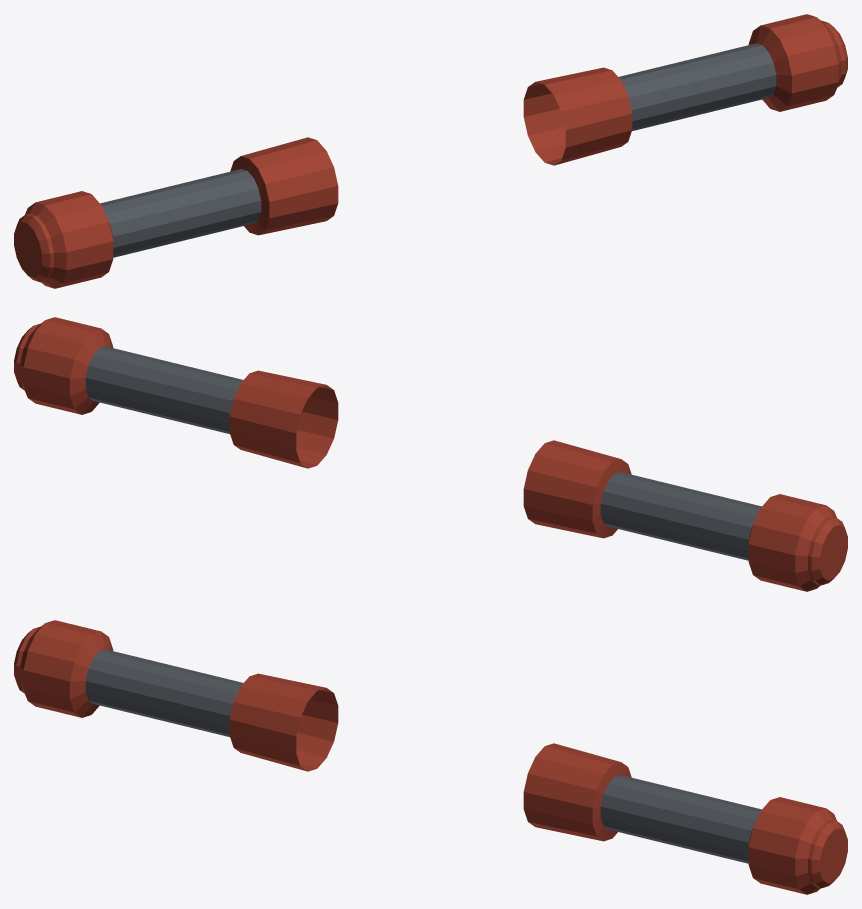
The model's file is Personal_Vehicle_03_Footrest_Red.fbx.
The picture shows the model from 3 angles, top to bottom: view 1: azimuth 30°, elevation 25°; view 2: azimuth 150°, elevation 25°; view 3: azimuth 330°, elevation 25°; orthographic projection.
Visible parts, largest first — view 1: Personal_Vehicle_03_Footrest_Red; view 2: Personal_Vehicle_03_Footrest_Red; view 3: Personal_Vehicle_03_Footrest_Red.
Boxes of the visible parts, x1,y1,x2,y2 form: Personal_Vehicle_03_Footrest_Red: [14, 14, 847, 288]; Personal_Vehicle_03_Footrest_Red: [14, 317, 847, 591]; Personal_Vehicle_03_Footrest_Red: [14, 620, 847, 894].
Bounding box in the file's own units: 90.39 × 8.62 × 8.4.
Materials: 1 (1 with a texture image).
